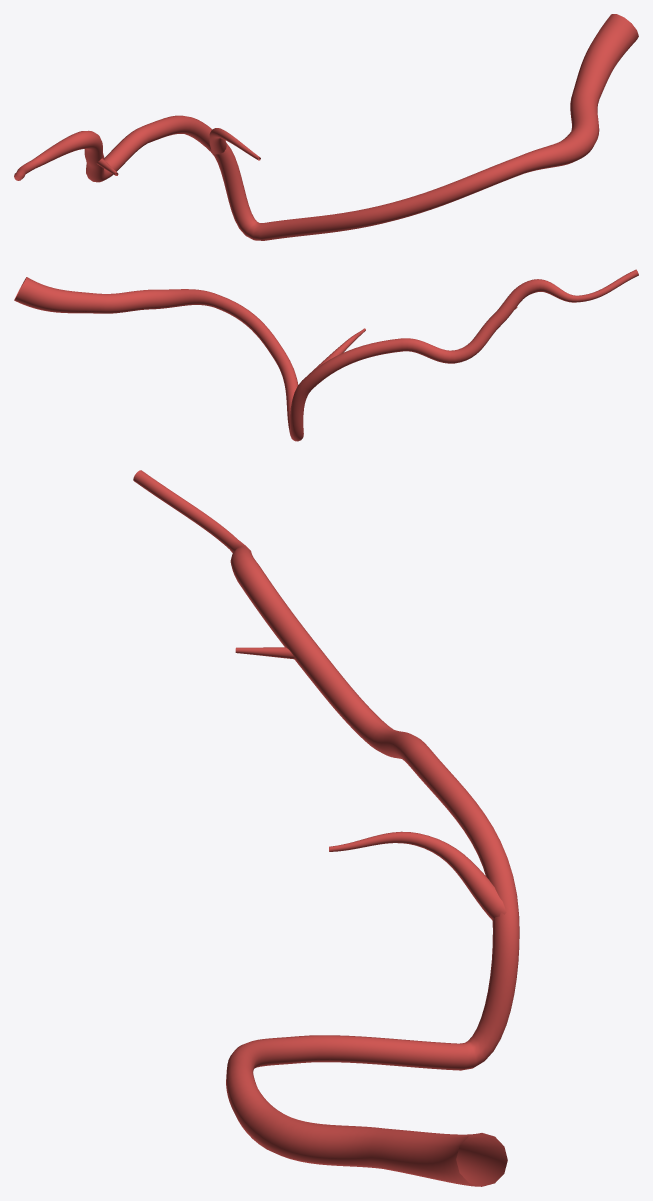
3 renders of one model, top to bottom at view 1: azimuth 30°, elevation 25°; view 2: azimuth 150°, elevation 25°; view 3: azimuth 270°, elevation 25°, orthographic. The views are drawn at different scales.
Visible parts, largest first — view 1: 肝固有动脉; view 2: 肝固有动脉; view 3: 肝固有动脉.
Part boxes in pixels (x1,y1,x2,y2): 肝固有动脉: [14, 14, 638, 240]; 肝固有动脉: [14, 269, 638, 441]; 肝固有动脉: [133, 470, 519, 1186].
Bounding box in the file's own units: 0.1356 × 0.0416 × 0.042.
